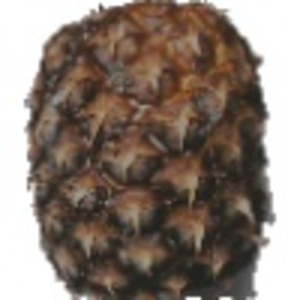abacaxi: (15, 2, 277, 296)
